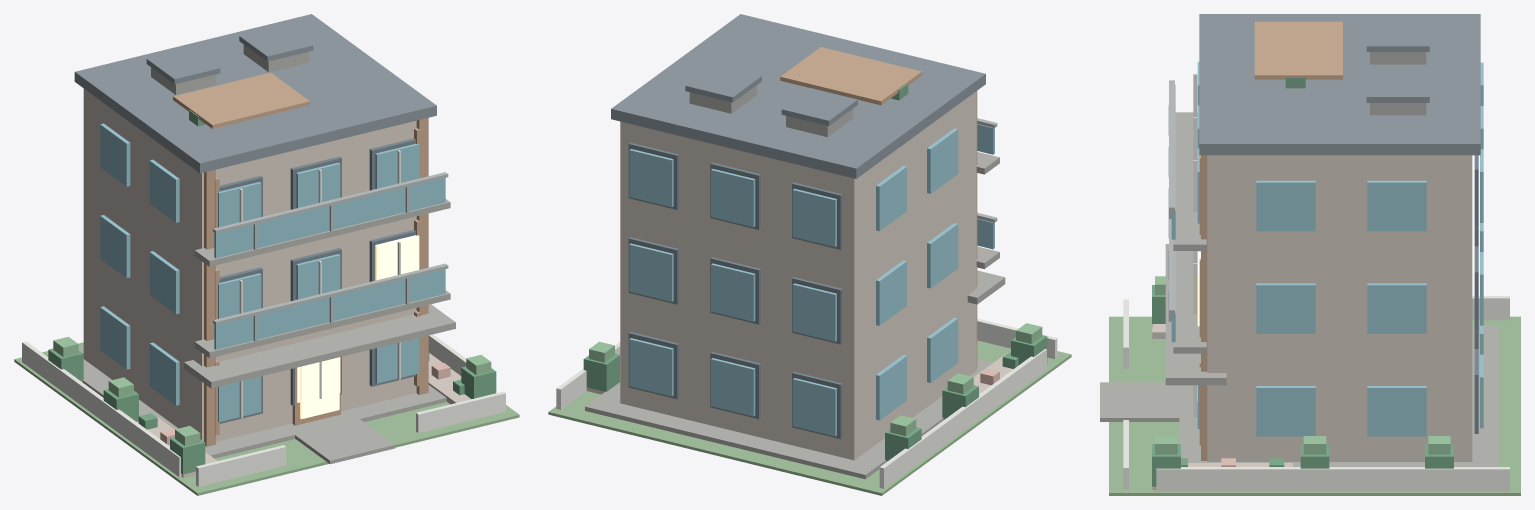
Rendered from building-a.gltf.
The picture shows the model from 3 angles, left to right: view 1: azimuth 30°, elevation 25°; view 2: azimuth 150°, elevation 25°; view 3: azimuth 270°, elevation 25°; orthographic projection. The views are drawn at different scales.
Parts seen in each view (by area): view 1: WarmWall, BlueGlass, DarkRoof, Stone, Wood, White, Grass, Dark, WarmWindow, Metal, TreeLeaf, LeafLight; view 2: WarmWall, BlueGlass, DarkRoof, Stone, Dark, Grass, White, Wood, TreeLeaf, LeafLight; view 3: WarmWall, DarkRoof, BlueGlass, Stone, Grass, White, Wood, TreeLeaf, LeafLight, Metal, Dark.
Boxes of the visible parts, x1,y1,x2,y2 form: WarmWall: [81, 88, 471, 477]; BlueGlass: [100, 123, 445, 422]; DarkRoof: [74, 14, 436, 173]; Stone: [78, 44, 455, 464]; Wood: [173, 72, 428, 446]; White: [22, 150, 505, 486]; Grass: [14, 342, 519, 495]; Dark: [219, 138, 415, 423]; WarmWindow: [297, 235, 419, 419]; Metal: [213, 172, 448, 341]; TreeLeaf: [48, 110, 496, 474]; LeafLight: [53, 336, 491, 445]; WarmWall: [586, 91, 1013, 461]; BlueGlass: [629, 124, 994, 436]; DarkRoof: [611, 14, 985, 178]; Stone: [585, 85, 1005, 479]; Dark: [628, 142, 842, 439]; Grass: [548, 340, 1071, 495]; White: [556, 318, 1057, 488]; Wood: [780, 47, 977, 368]; TreeLeaf: [583, 83, 1047, 460]; LeafLight: [589, 323, 1042, 436]; WarmWall: [1152, 155, 1472, 490]; DarkRoof: [1199, 14, 1480, 155]; BlueGlass: [1171, 62, 1483, 436]; Stone: [1100, 52, 1498, 466]; Grass: [1109, 316, 1520, 495]; White: [1123, 73, 1509, 491]; Wood: [1199, 21, 1342, 460]; TreeLeaf: [1152, 77, 1453, 486]; LeafLight: [1155, 276, 1450, 454]; Metal: [1168, 80, 1174, 321]; Dark: [1474, 155, 1478, 433].
Size of the model in its own units: 10.4 by 9.57 by 10.47.
